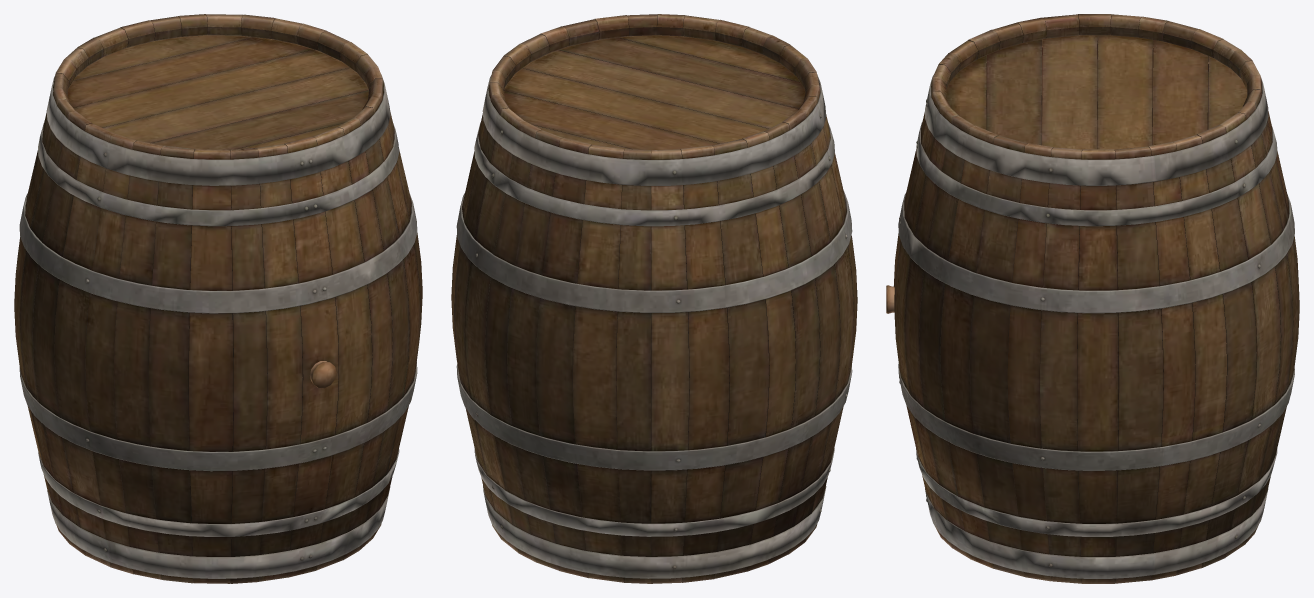
The model's file is wine_barrel_01.glb.
3 views of the same model, side by side, from view 1: azimuth 30°, elevation 25°; view 2: azimuth 150°, elevation 25°; view 3: azimuth 270°, elevation 25° (orthographic).
Visible parts, largest first — view 1: wine_barrel_01_Lid; view 2: wine_barrel_01_Lid; view 3: wine_barrel_01_Lid.
Part boxes in pixels (x1,y1,x2,y2): wine_barrel_01_Lid: (14, 14, 422, 583); wine_barrel_01_Lid: (451, 14, 857, 583); wine_barrel_01_Lid: (886, 14, 1299, 583).
Bounding box in the file's own units: 0.7419 × 0.8704 × 0.7554.
1 material, 1 textured.
